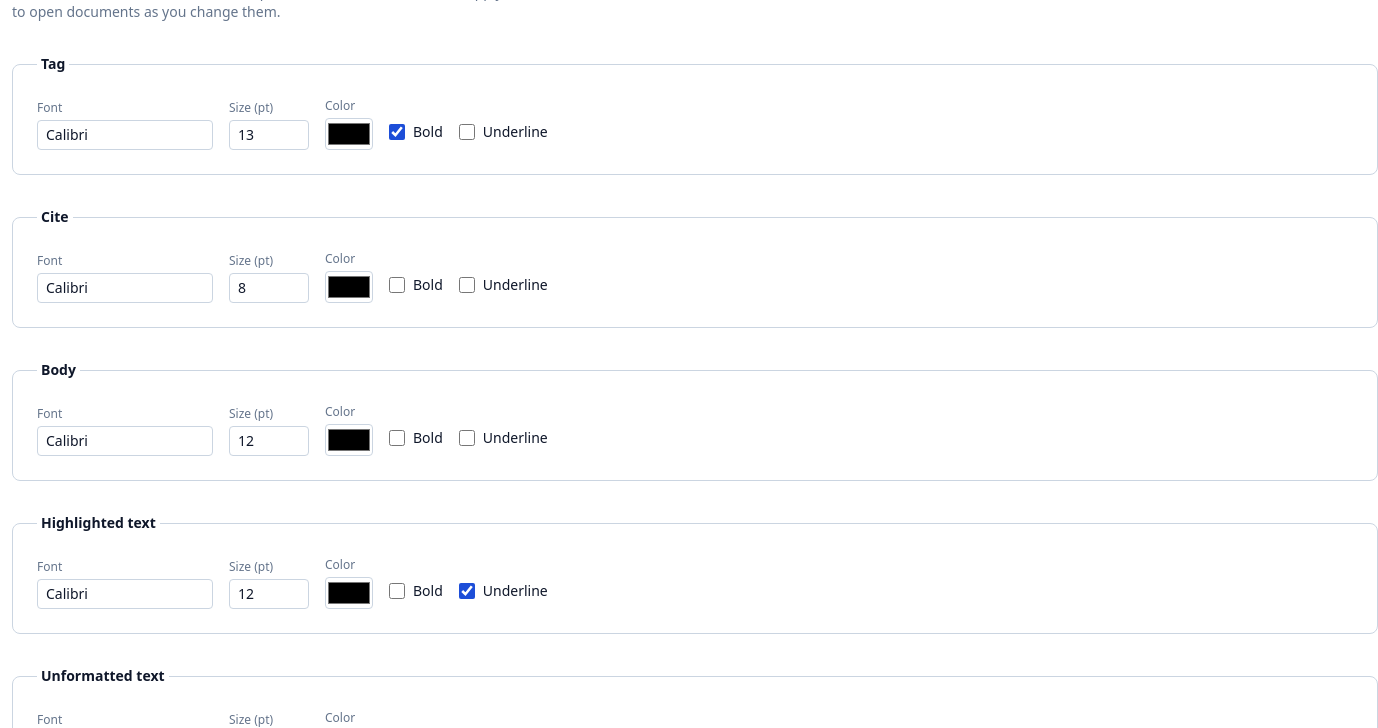
FormattingSettingsPanel › applies a font edit live to a consuming read
Step 1. Replace the text in the 3rd field labelled "Font" with "Georgia" → point(125, 441), box [37,426,213,456]
(page scrolled)
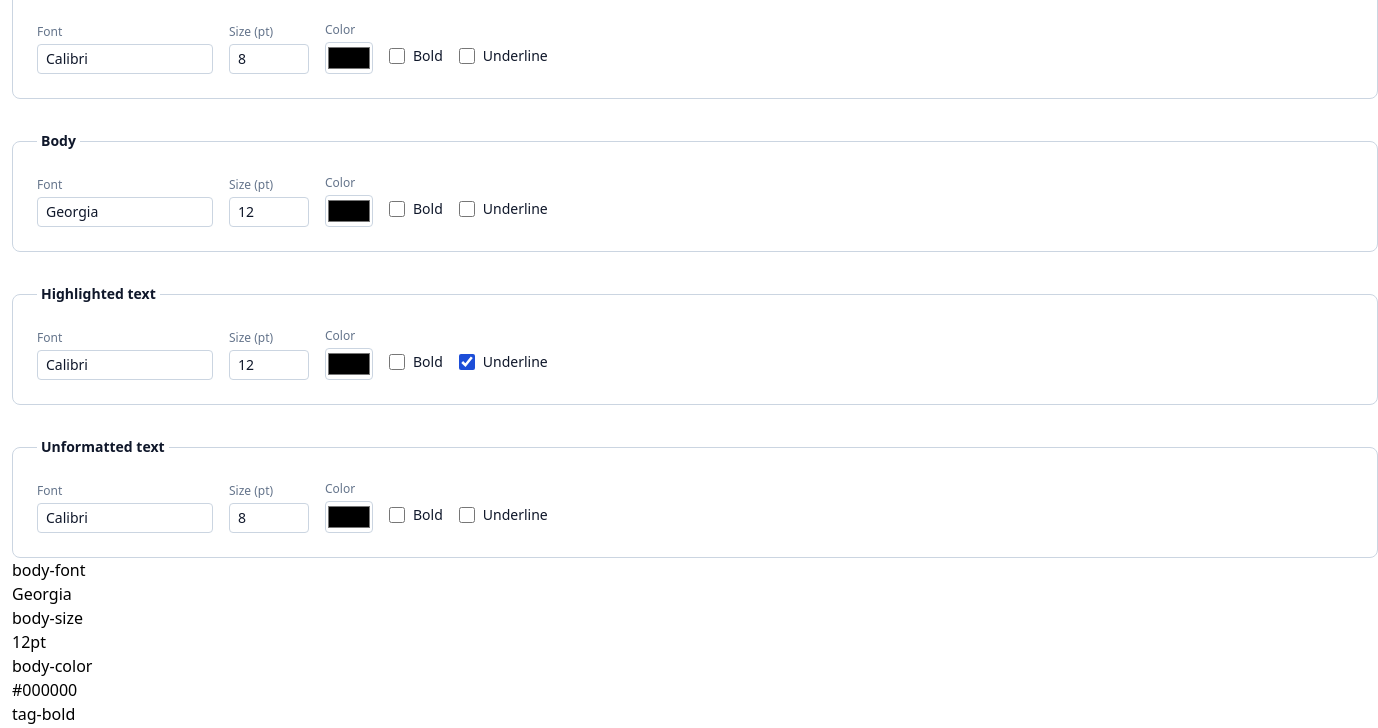
Result: the text with test id "consume-body-font" reads "Georgia" at [12,583,72,605]
